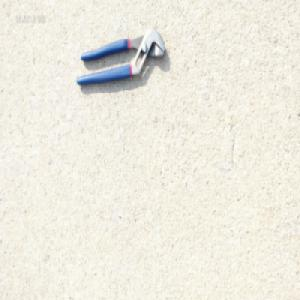Pliers: (75, 25, 166, 87)
